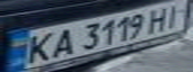1: (97, 16, 118, 46), (115, 12, 133, 42)
3: (78, 20, 103, 51)
9: (127, 10, 151, 38)
A: (45, 26, 78, 59)
H: (142, 3, 175, 34)
I: (160, 1, 190, 29)
K: (18, 29, 60, 64)
